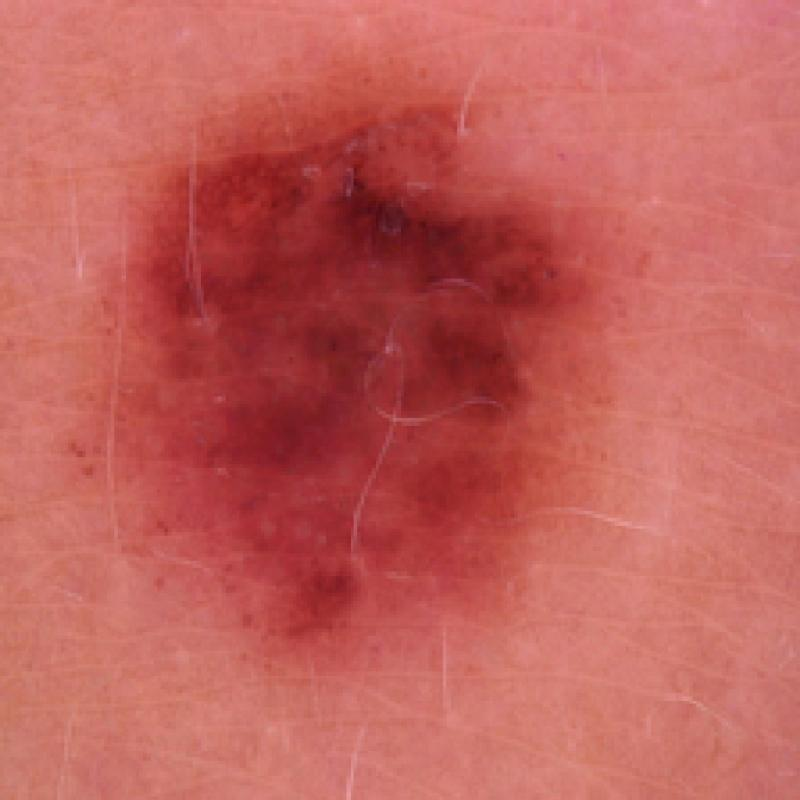benign: (104, 64, 604, 658)
